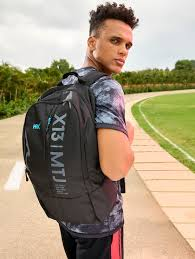backpack: (21, 66, 126, 258)
